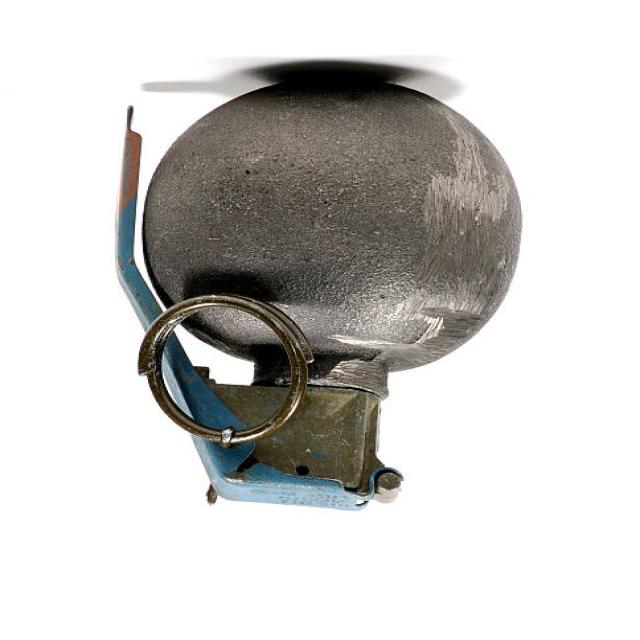grenade: (107, 62, 521, 528)
